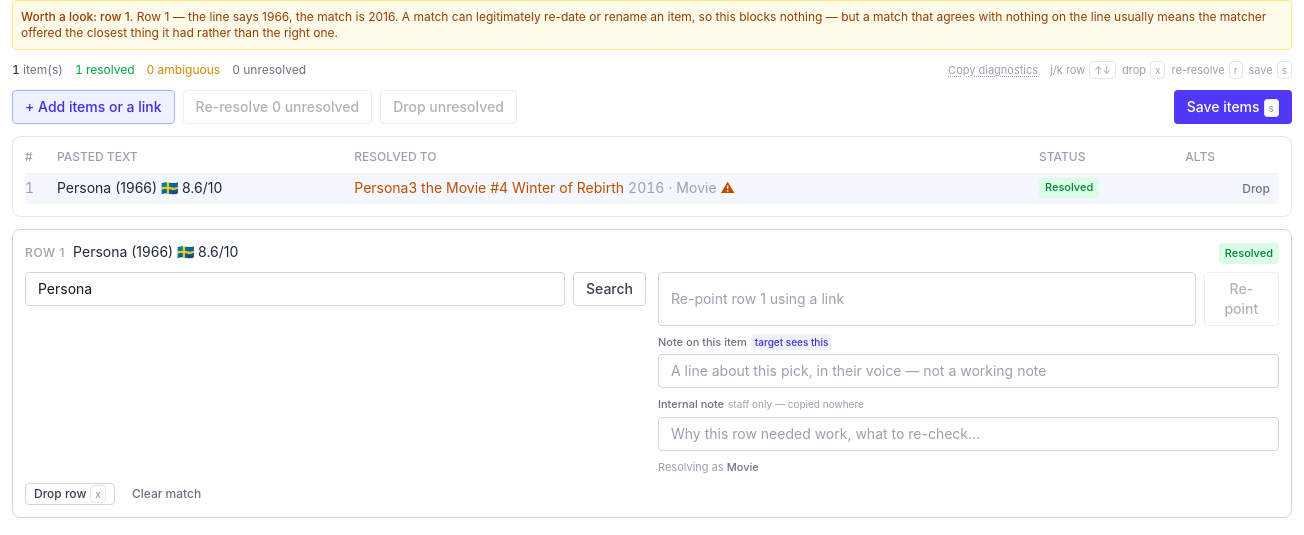
builder — picking says what it attached › names the title and year it attached, and what it replaced
This screenshot has width=1304, height=535.
What coordinates should you click on to do the following:
click the button "Search"
I would click on:
 (610, 288)
Its box is [573,272,646,306].
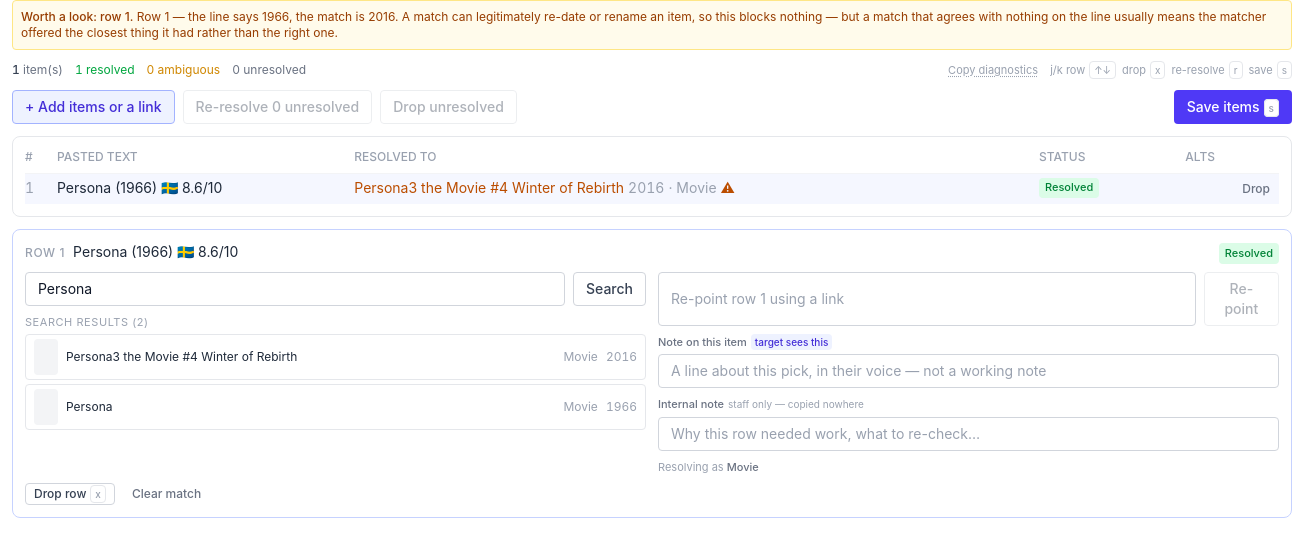
Expected: the text "Search results (2)" is shown, [25,314,149,328]
What coordinates should you click on to do the following:
click the text "Persona"
I would click on:
 (89, 406)
Its box is [66,399,112,414].
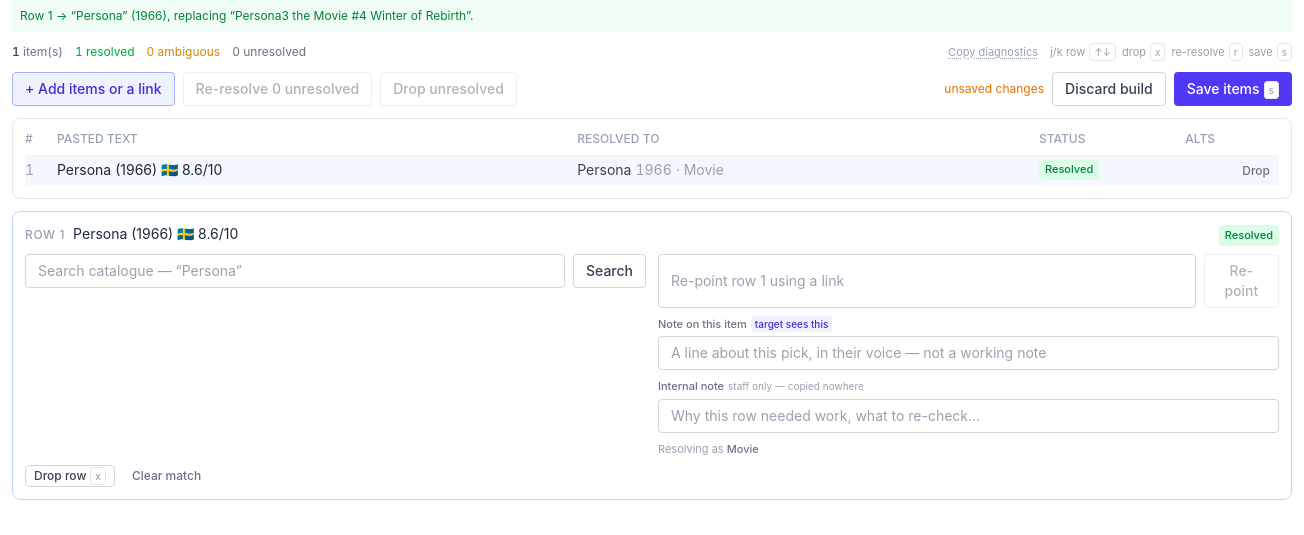
Expected: the text "Row 1 → “Persona” (1966), replacing “Persona3 the Movie #4 Winter of Rebirth”" is shown, [20,8,474,23]
